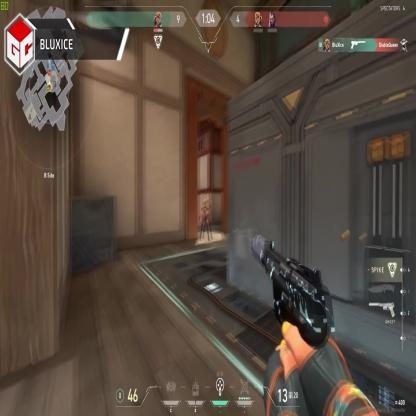enemy: (201, 197, 211, 240)
enemy_head: (204, 198, 207, 206)
